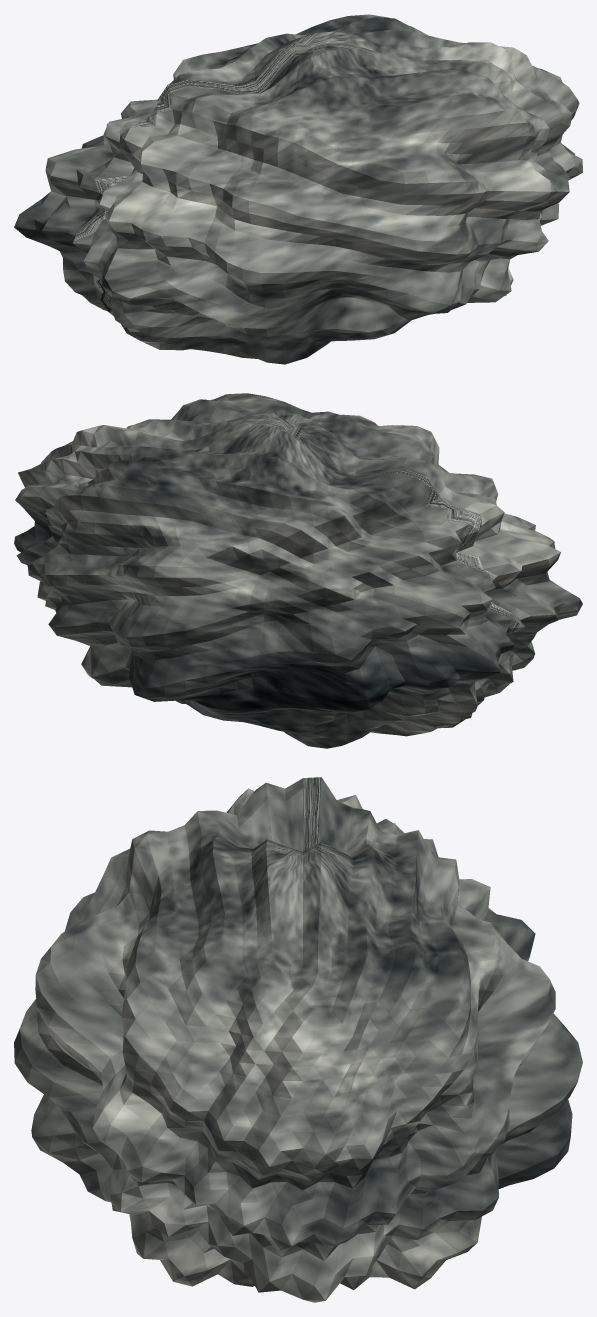
The model's file is small_03.glb.
3 renders of one model, top to bottom at view 1: azimuth 30°, elevation 25°; view 2: azimuth 150°, elevation 25°; view 3: azimuth 270°, elevation 25°, orthographic. The views are drawn at different scales.
Visible parts, largest first — view 1: rock; view 2: rock; view 3: rock.
Boxes of the visible parts, box(x1,y1,x2,y2) form: rock: box(14, 14, 582, 364); rock: box(14, 393, 582, 748); rock: box(14, 777, 582, 1302).
Bounding box in the file's own units: 1.42 × 0.7525 × 1.01.
Materials: 1 (1 with a texture image).
